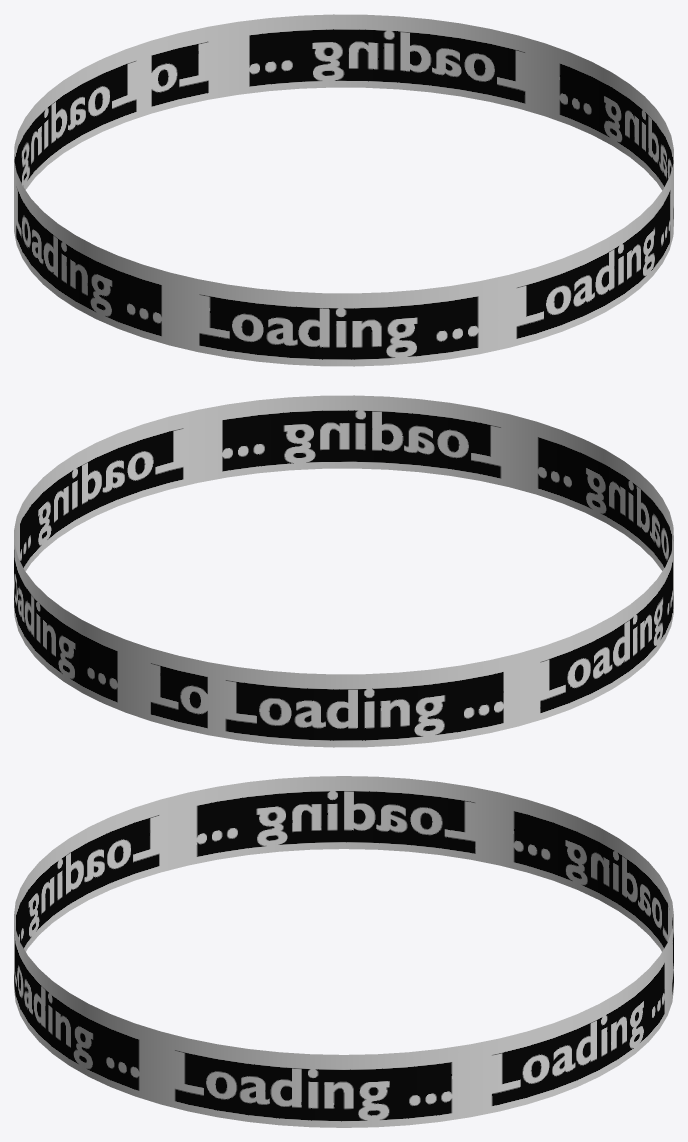
File: loading-ring.glb
3 views of the same model, one above another, from view 1: azimuth 30°, elevation 25°; view 2: azimuth 150°, elevation 25°; view 3: azimuth 270°, elevation 25° (orthographic).
Parts seen in each view (by area): view 1: loading-ring; view 2: loading-ring; view 3: loading-ring.
Boxes of the visible parts, x1,y1,x2,y2 form: loading-ring: [14, 14, 673, 366]; loading-ring: [14, 395, 673, 747]; loading-ring: [14, 776, 673, 1127].
Bounding box in the file's own units: 2 × 0.2443 × 2.
Materials: 1 (1 with a texture image).
